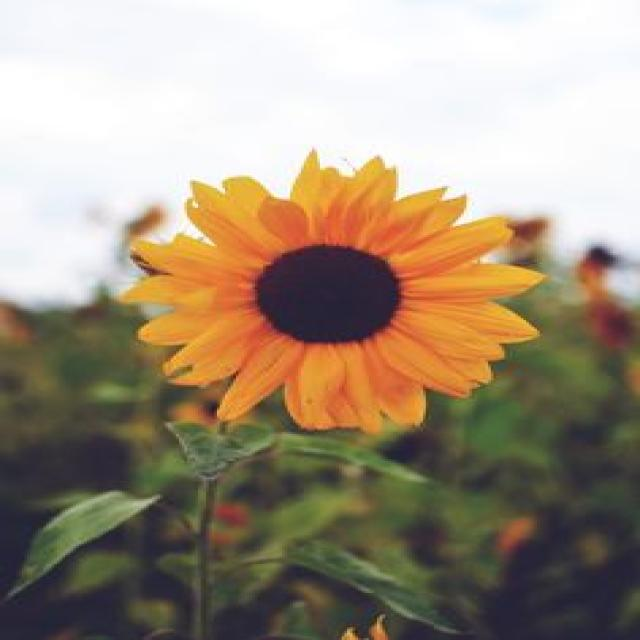sunflower: (112, 139, 554, 434)
